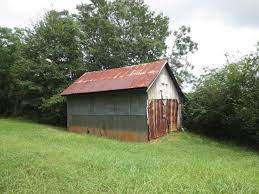Tin-shade House: (60, 60, 191, 144)
